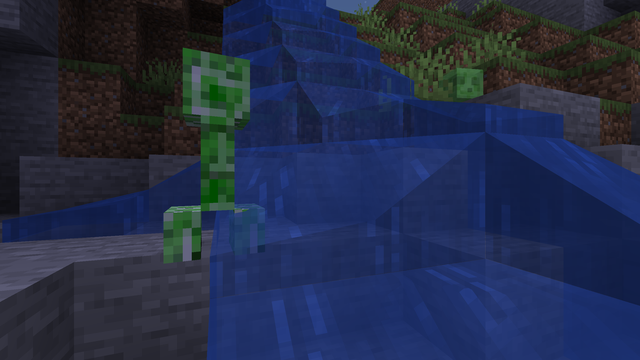creepers: (171, 33, 254, 263)
slimes: (437, 65, 483, 105)
